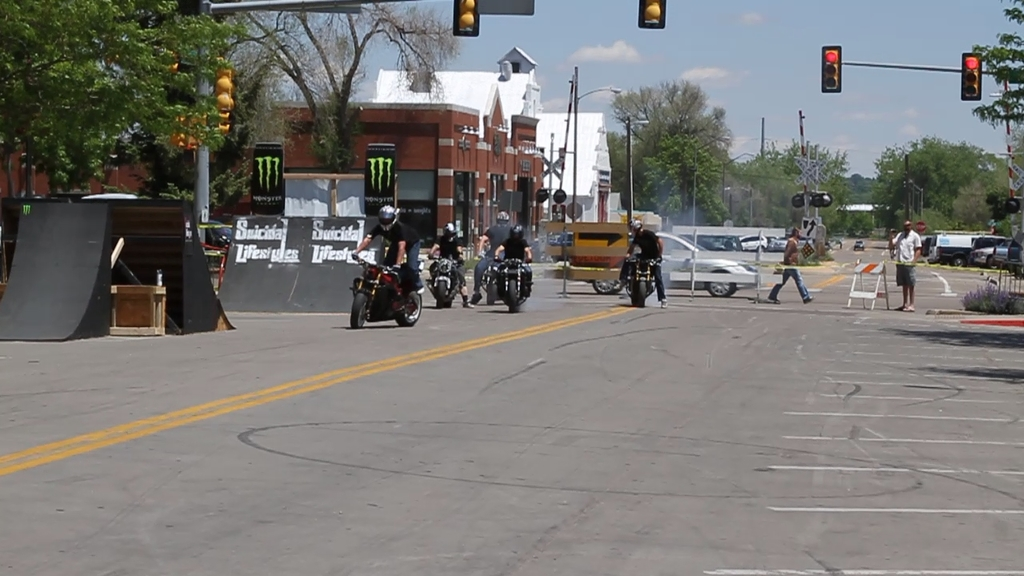red_light: (964, 54, 979, 100), (824, 47, 837, 91)
